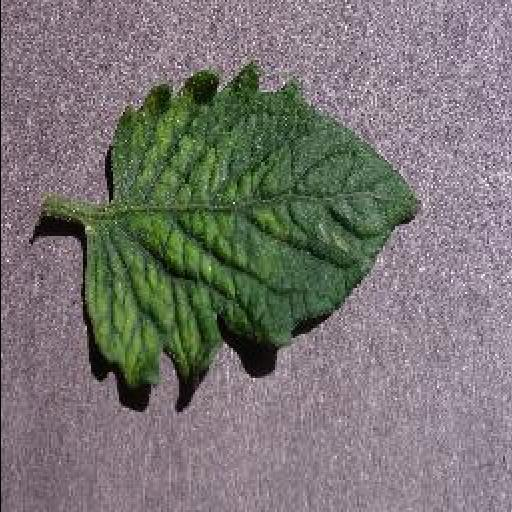disease_tomato: (82, 60, 420, 388)
